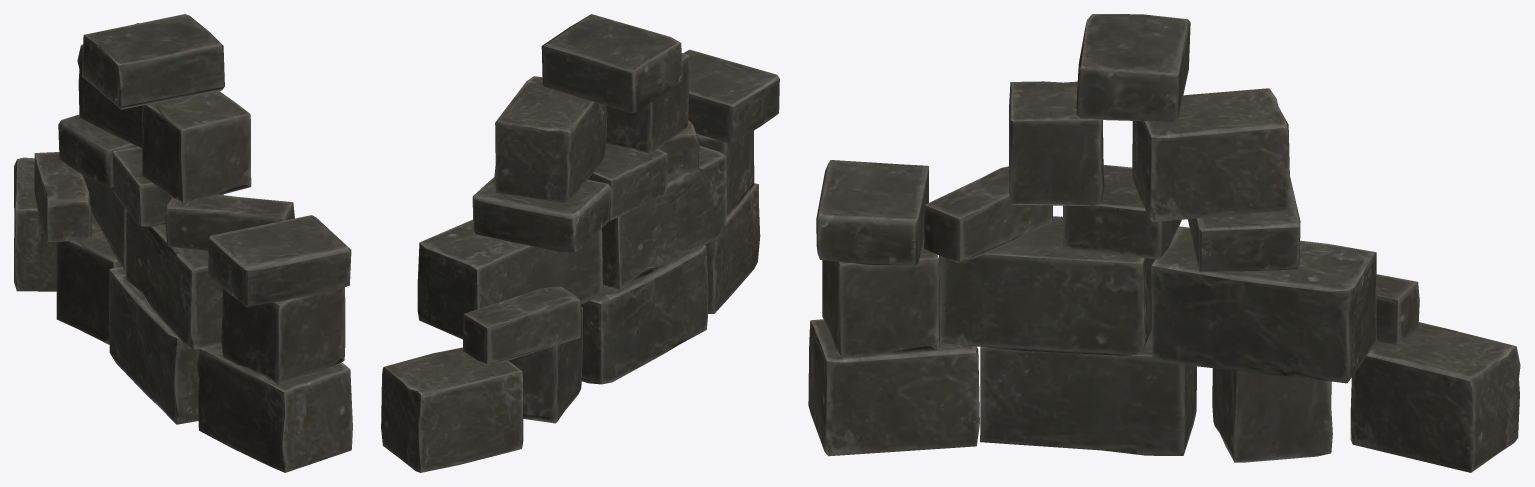
3 renders of one model, left to right at view 1: azimuth 30°, elevation 25°; view 2: azimuth 150°, elevation 25°; view 3: azimuth 270°, elevation 25°, orthographic. The views are drawn at different scales.
Parts seen in each view (by area): view 1: SM_Greathall_Wall_8x4_Broken_Top_02_LOD0; view 2: SM_Greathall_Wall_8x4_Broken_Top_02_LOD0; view 3: SM_Greathall_Wall_8x4_Broken_Top_02_LOD0.
Boxes of the visible parts, x1=… form: SM_Greathall_Wall_8x4_Broken_Top_02_LOD0: x1=14, y1=14, x2=352, y2=472; SM_Greathall_Wall_8x4_Broken_Top_02_LOD0: x1=381, y1=14, x2=779, y2=472; SM_Greathall_Wall_8x4_Broken_Top_02_LOD0: x1=808, y1=14, x2=1520, y2=472.
Size of the model in its own units: 2.38 by 4.7 by 7.84.
1 material, 1 textured.
